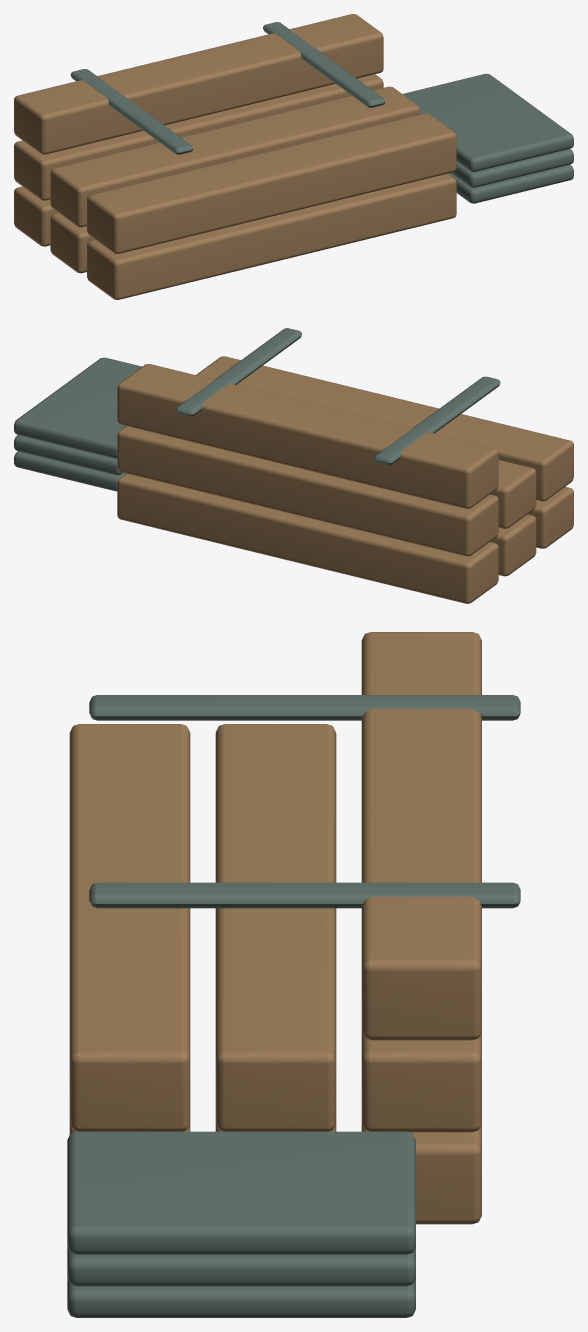
The model's file is build-resources.glb.
The picture shows the model from 3 angles, top to bottom: view 1: azimuth 30°, elevation 25°; view 2: azimuth 150°, elevation 25°; view 3: azimuth 270°, elevation 25°; orthographic projection. The views are drawn at different scales.
Parts seen in each view (by area): view 1: Salvage timber.005, Salvage timber.006, Salvage timber.002, Salvage timber.004, Scrap plate.002, Salvage timber.003, Packing strap, Packing strap.001, Scrap plate, Scrap plate.001, Salvage timber, Salvage timber.001; view 2: Salvage timber.006, Salvage timber, Salvage timber.003, Salvage timber.005, Scrap plate.002, Packing strap, Packing strap.001, Salvage timber.004, Salvage timber.001, Salvage timber.002, Scrap plate, Scrap plate.001; view 3: Salvage timber.005, Salvage timber.004, Salvage timber.006, Scrap plate.002, Scrap plate.001, Salvage timber.003, Scrap plate, Packing strap.001, Packing strap, Salvage timber.
Boxes of the visible parts, box(x1,y1,x2,y2) form: Salvage timber.005: box(87, 113, 456, 253); Salvage timber.006: box(14, 14, 383, 154); Salvage timber.002: box(87, 173, 456, 299); Salvage timber.004: box(50, 86, 419, 227); Scrap plate.002: box(403, 73, 573, 171); Salvage timber.003: box(14, 74, 383, 200); Packing strap: box(70, 69, 192, 154); Packing strap.001: box(263, 22, 385, 107); Scrap plate: box(448, 164, 573, 203); Scrap plate.001: box(451, 149, 573, 187); Salvage timber: box(14, 186, 58, 246); Salvage timber.001: box(50, 213, 94, 273); Salvage timber.006: box(117, 364, 498, 508); Salvage timber: box(117, 473, 498, 603); Salvage timber.003: box(117, 426, 498, 556); Salvage timber.005: box(196, 356, 573, 501); Scrap plate.002: box(14, 357, 141, 458); Packing strap: box(374, 376, 500, 464); Packing strap.001: box(176, 328, 301, 416); Salvage timber.004: box(490, 460, 536, 528); Salvage timber.001: box(490, 514, 536, 576); Salvage timber.002: box(528, 486, 573, 548); Scrap plate: box(14, 451, 125, 491); Scrap plate.001: box(14, 435, 122, 475); Salvage timber.005: box(69, 724, 190, 1131); Salvage timber.004: box(215, 724, 336, 1131); Salvage timber.006: box(361, 632, 481, 1040); Scrap plate.002: box(67, 1131, 415, 1254); Scrap plate.001: box(67, 1246, 415, 1286); Salvage timber.003: box(361, 1032, 481, 1132); Scrap plate: box(67, 1278, 415, 1317); Packing strap.001: box(89, 882, 520, 908); Packing strap: box(89, 695, 520, 720); Salvage timber: box(361, 1124, 481, 1224).
Bounding box in the file's own units: 1.68 × 0.4625 × 0.715.
